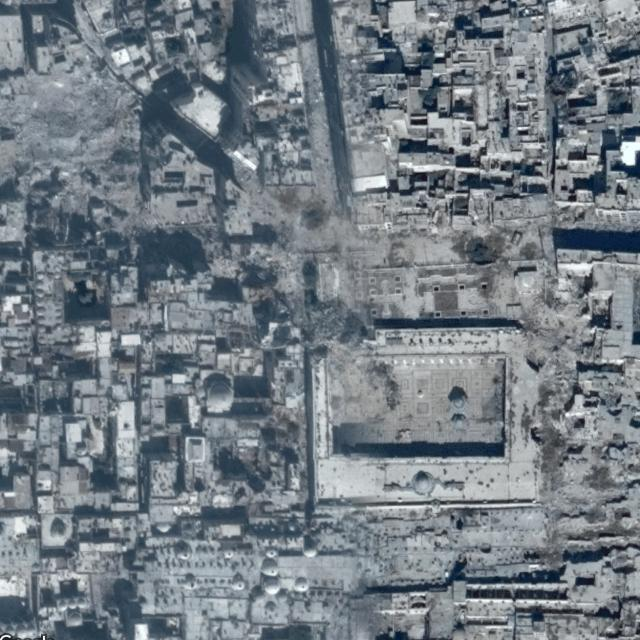damaged_building: (0, 11, 402, 433), (519, 263, 640, 577), (460, 190, 509, 274)
